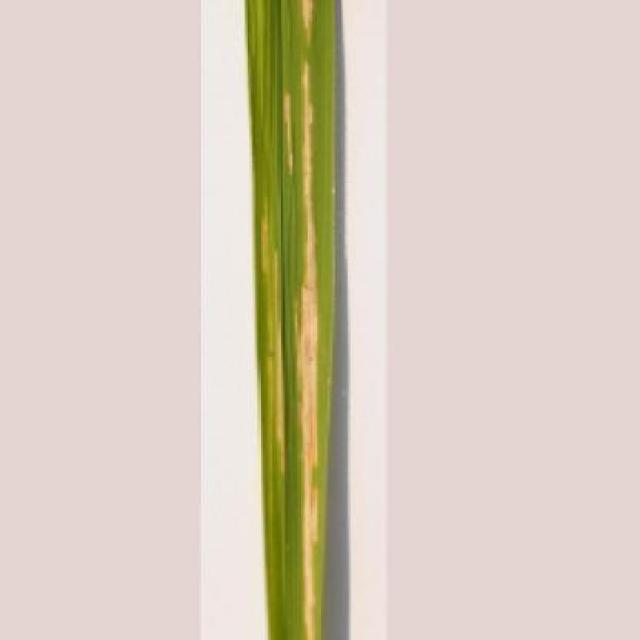Brown_Spot: (246, 0, 346, 640)
